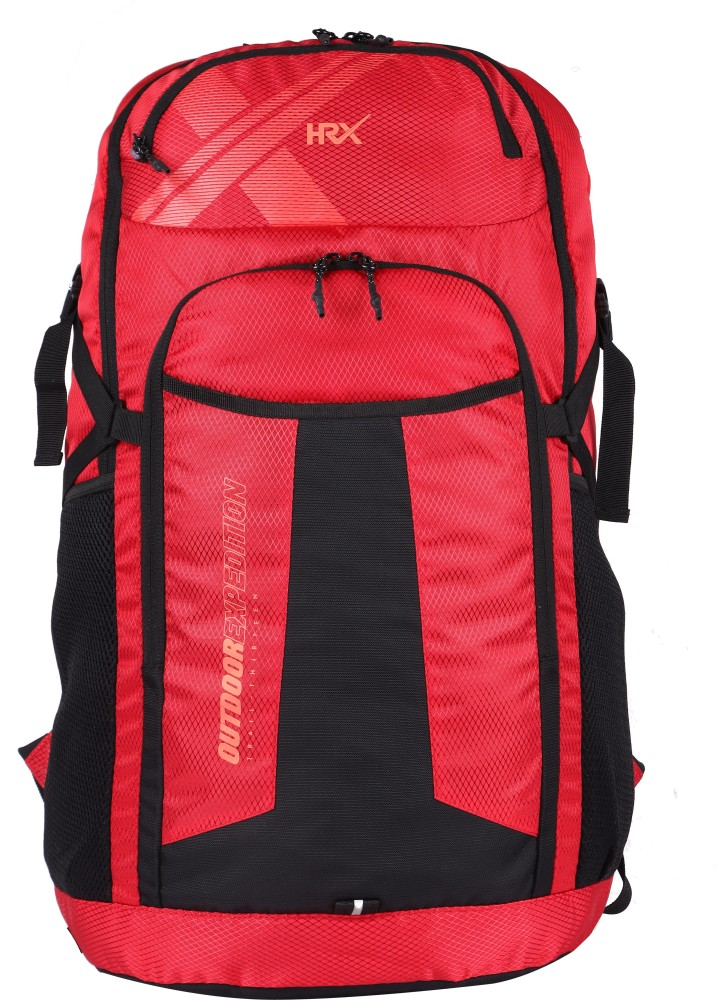backpack: (20, 28, 644, 996)
